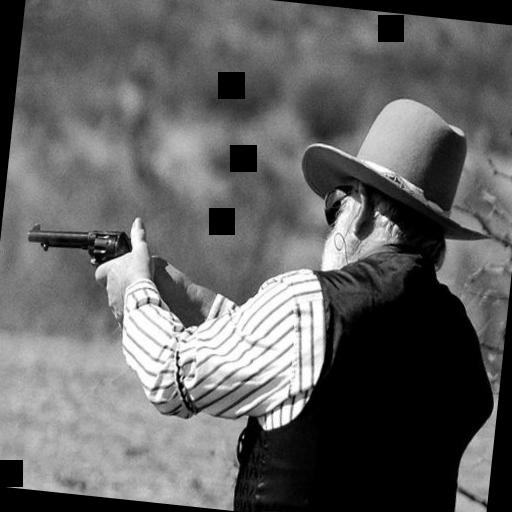Handgun: (22, 216, 134, 269)
